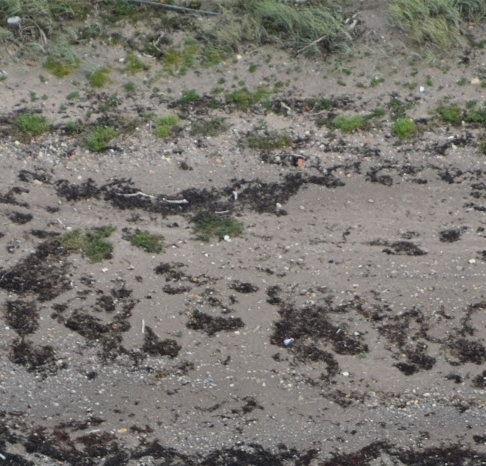scattered_barrel: (1, 1, 486, 178)
